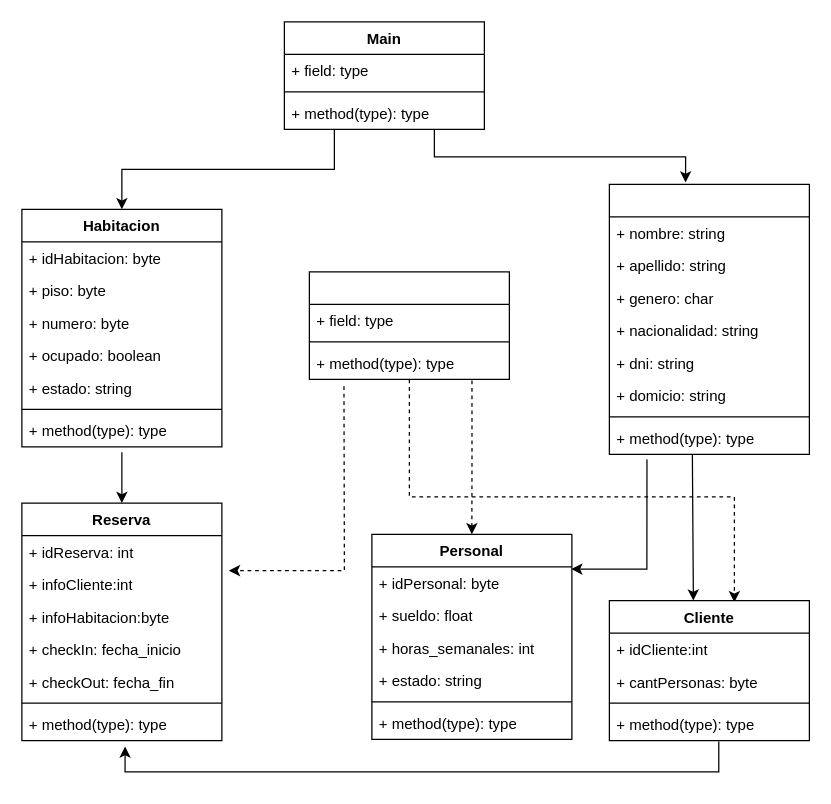
Image size: 831x804. Some labels were removed from this diagram. The shapes that lost their labels are listed below. From the top down, each one's box as (x1, y1, x2, y2) in pixels, then its label:
(308, 271, 509, 379): Controlador
(608, 183, 809, 454): Persona
